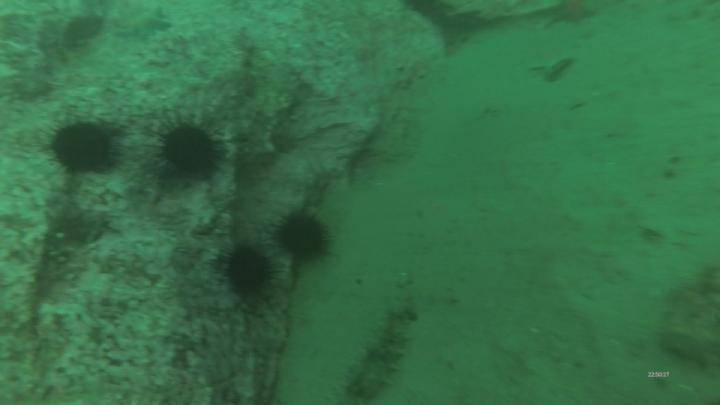echinus: (40, 113, 122, 180), (151, 117, 225, 186), (269, 208, 338, 266), (220, 243, 281, 307)
holothurian: (319, 302, 420, 405), (657, 259, 720, 380)
starfish: (525, 43, 583, 82), (539, 1, 599, 28)
